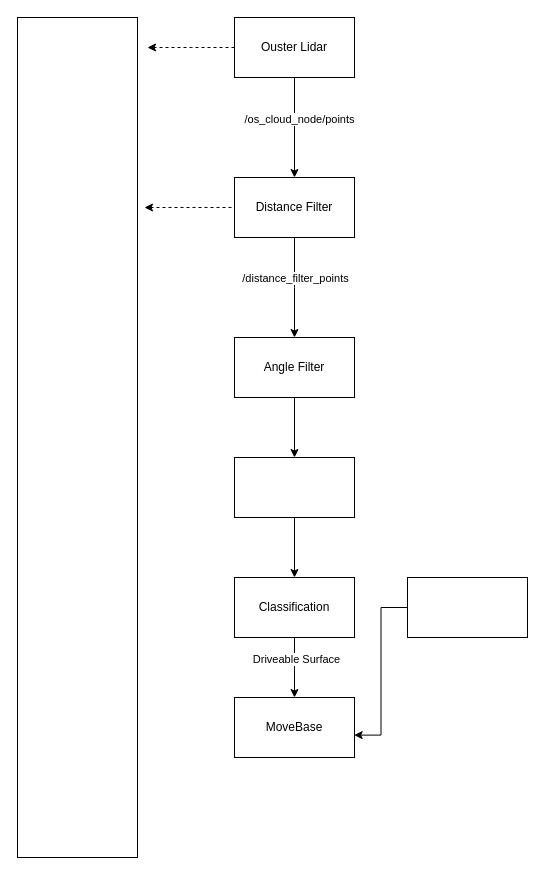
This 545x875 diagram has some shape labels left out. The shapes that lost their labels are listed below. From the top down, each one's box as (x1, y1, x2, y2) in pixels, then its label:
(16, 16, 138, 858): RVIZ
(234, 456, 354, 518): Voxel Filter
(406, 576, 528, 638): Desired Location
